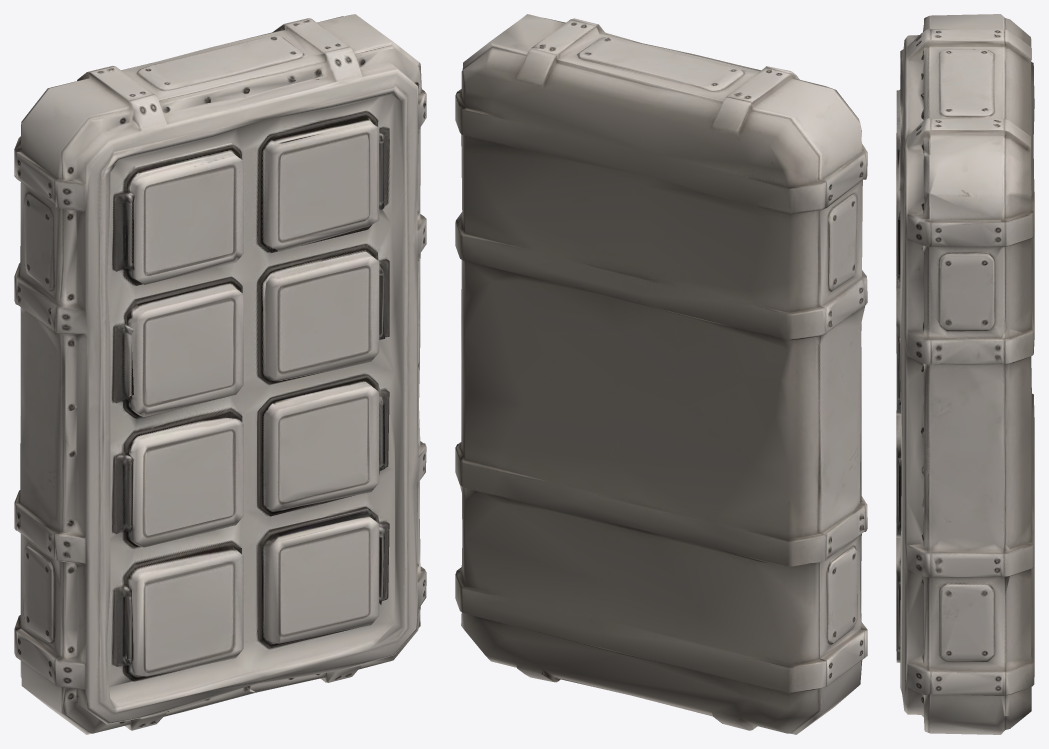
Rendered from missilePod.glb.
The picture shows the model from 3 angles, left to right: view 1: azimuth 30°, elevation 25°; view 2: azimuth 150°, elevation 25°; view 3: azimuth 270°, elevation 25°; orthographic projection. The views are drawn at different scales.
Parts seen in each view (by area): view 1: tripo_node_2349d224-6a46-482f-88de-426c646be625; view 2: tripo_node_2349d224-6a46-482f-88de-426c646be625; view 3: tripo_node_2349d224-6a46-482f-88de-426c646be625.
Part boxes in pixels (<box>): tripo_node_2349d224-6a46-482f-88de-426c646be625: <box>14,14,426,734</box>; tripo_node_2349d224-6a46-482f-88de-426c646be625: <box>455,14,867,734</box>; tripo_node_2349d224-6a46-482f-88de-426c646be625: <box>896,14,1034,734</box>.
Size of the model in its own units: 3.48 by 5.63 by 1.19.
1 material, 1 textured.
